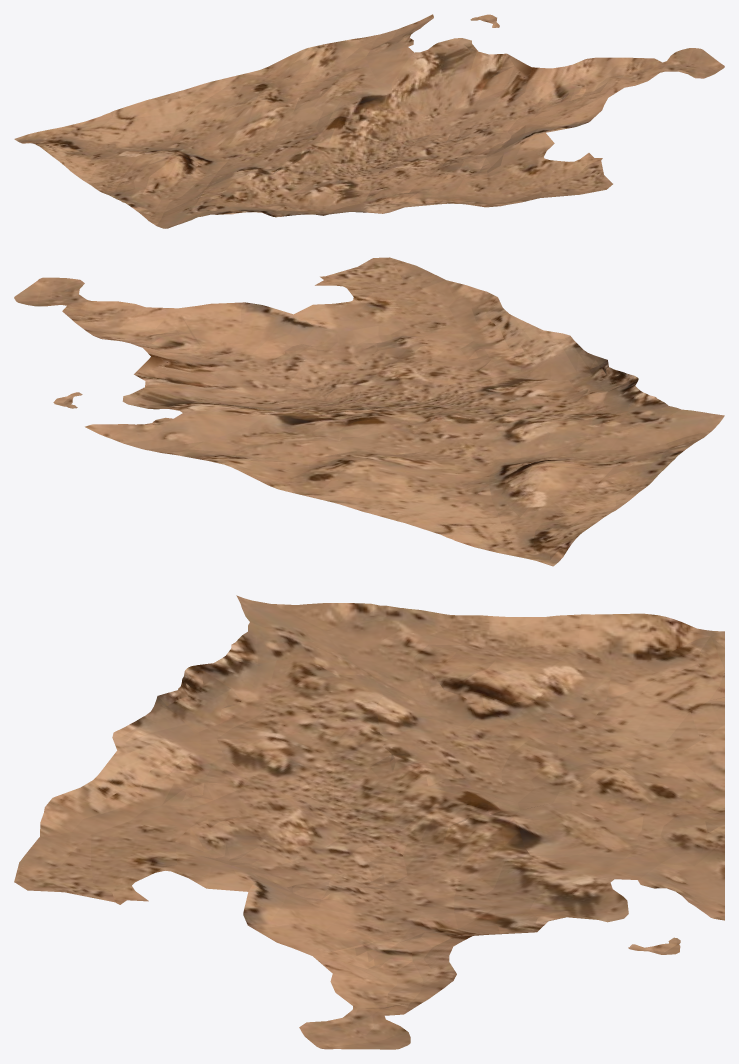
The picture shows the model from 3 angles, top to bottom: view 1: azimuth 30°, elevation 25°; view 2: azimuth 150°, elevation 25°; view 3: azimuth 270°, elevation 25°; orthographic projection. The views are drawn at different scales.
Size of the model in its own units: 1.9 by 0.0727 by 1.26.
Materials: 1 (1 with a texture image).
